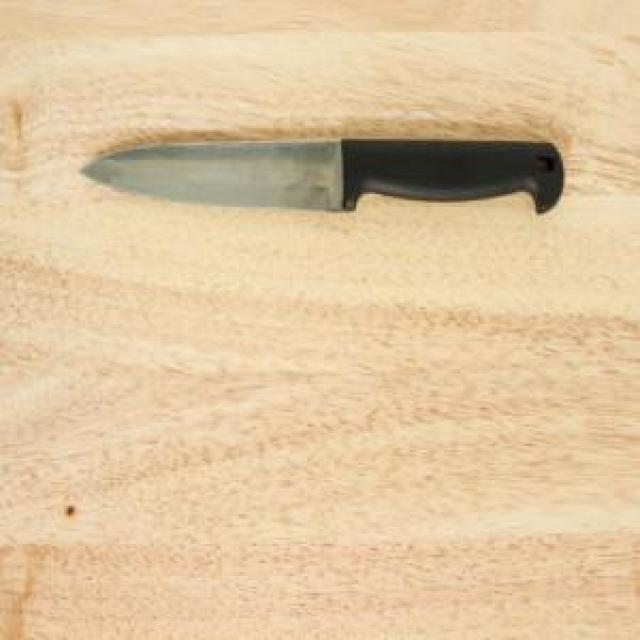knife: (77, 132, 564, 212)
